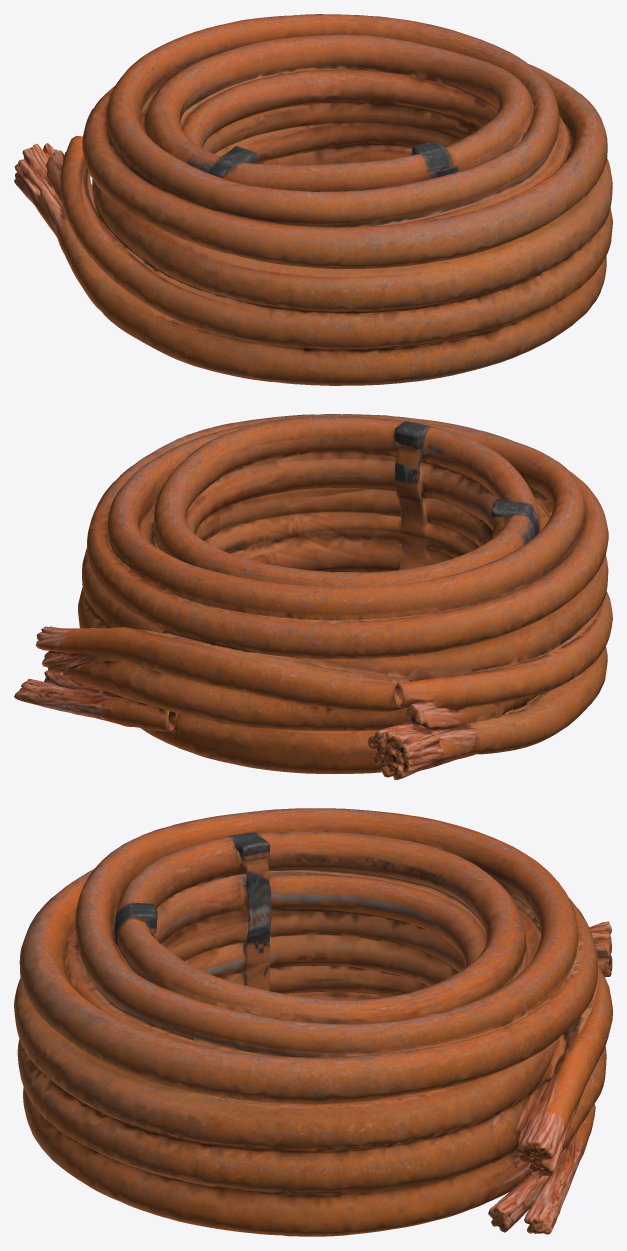
Rendered from WireCoil.fbx.
The picture shows the model from 3 angles, top to bottom: view 1: azimuth 30°, elevation 25°; view 2: azimuth 150°, elevation 25°; view 3: azimuth 270°, elevation 25°; orthographic projection. The views are drawn at different scales.
Parts seen in each view (by area): view 1: texture_mapping; view 2: texture_mapping; view 3: texture_mapping.
Boxes of the visible parts, x1=… form: texture_mapping: x1=14, y1=14, x2=612, y2=385; texture_mapping: x1=14, y1=414, x2=612, y2=779; texture_mapping: x1=14, y1=808, x2=612, y2=1236.
Size of the model in its own units: 0.9962 by 0.9977 by 0.4107.
Materials: 1 (1 with a texture image).
